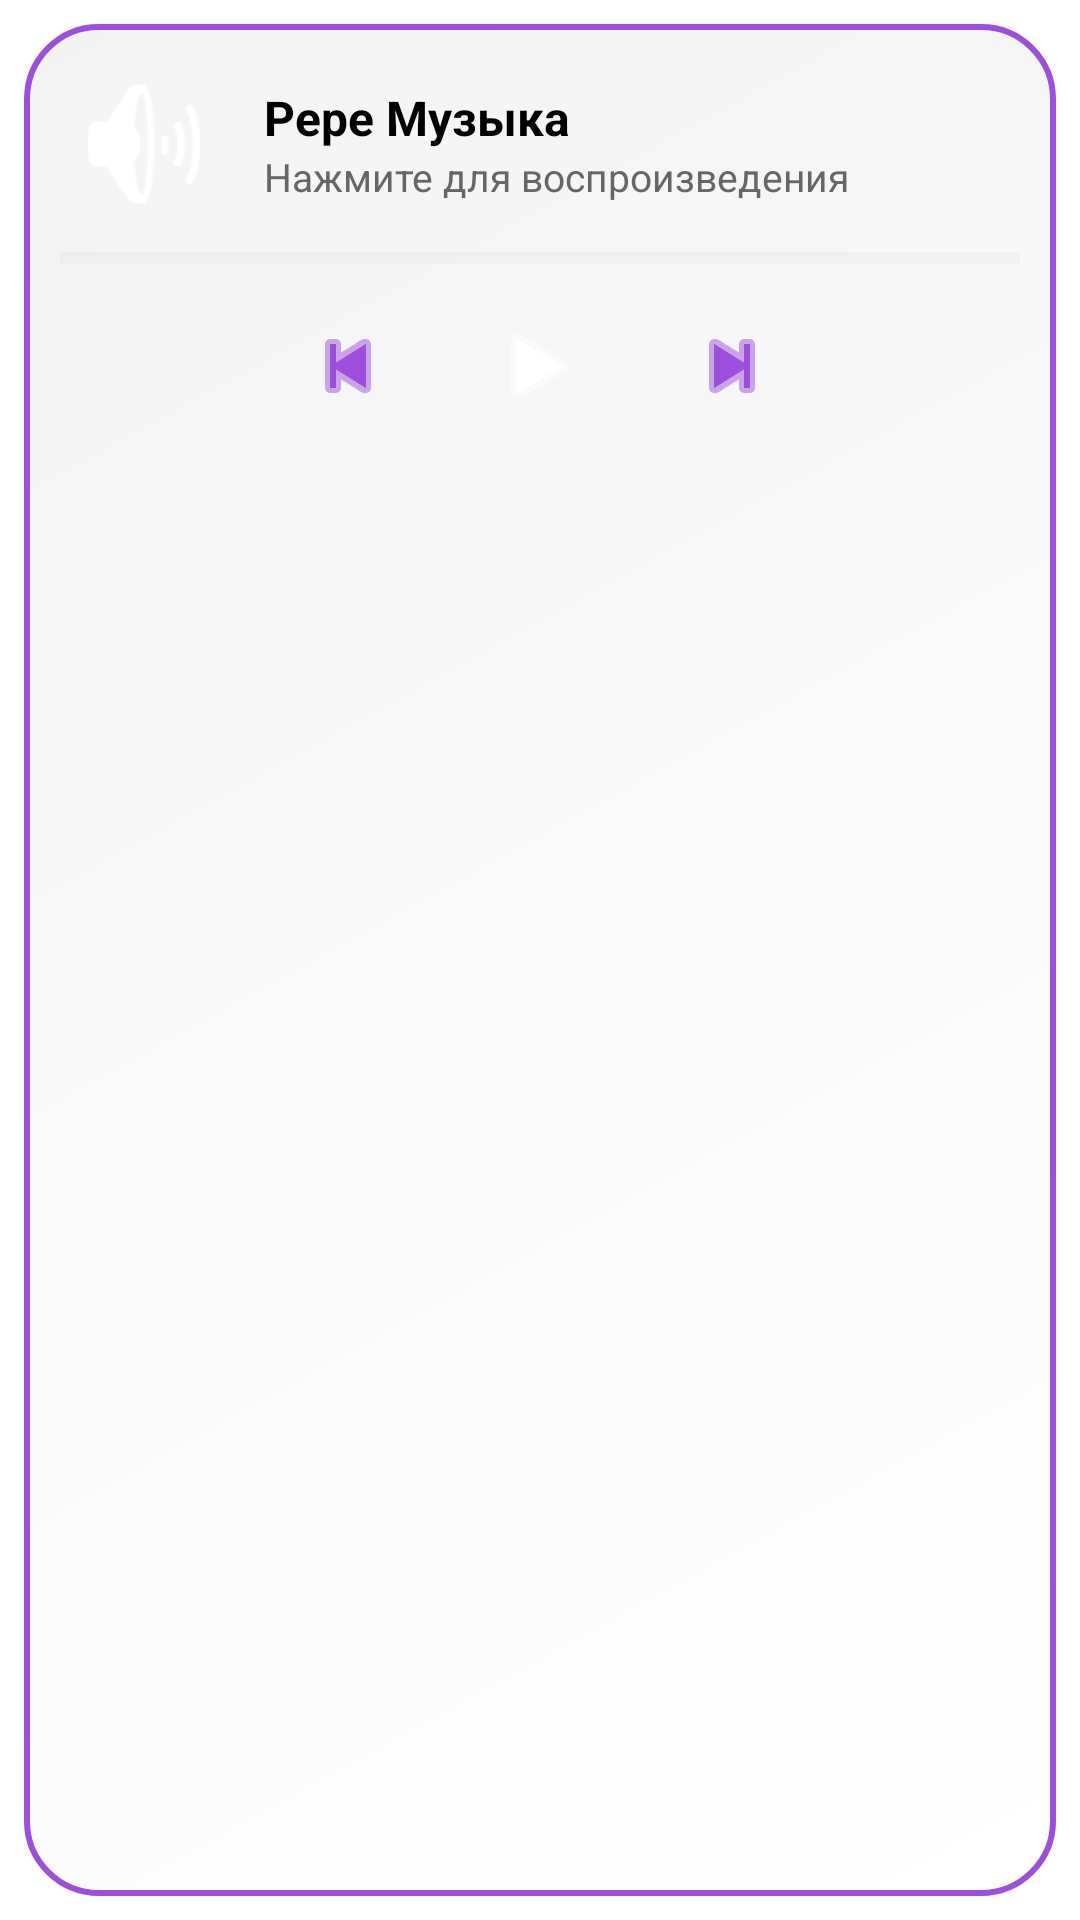

Screen size 1080 x 1920. Icon name, then its center in pixels as point (x, y):
Next: point (732, 366)
Previous: point (348, 366)
